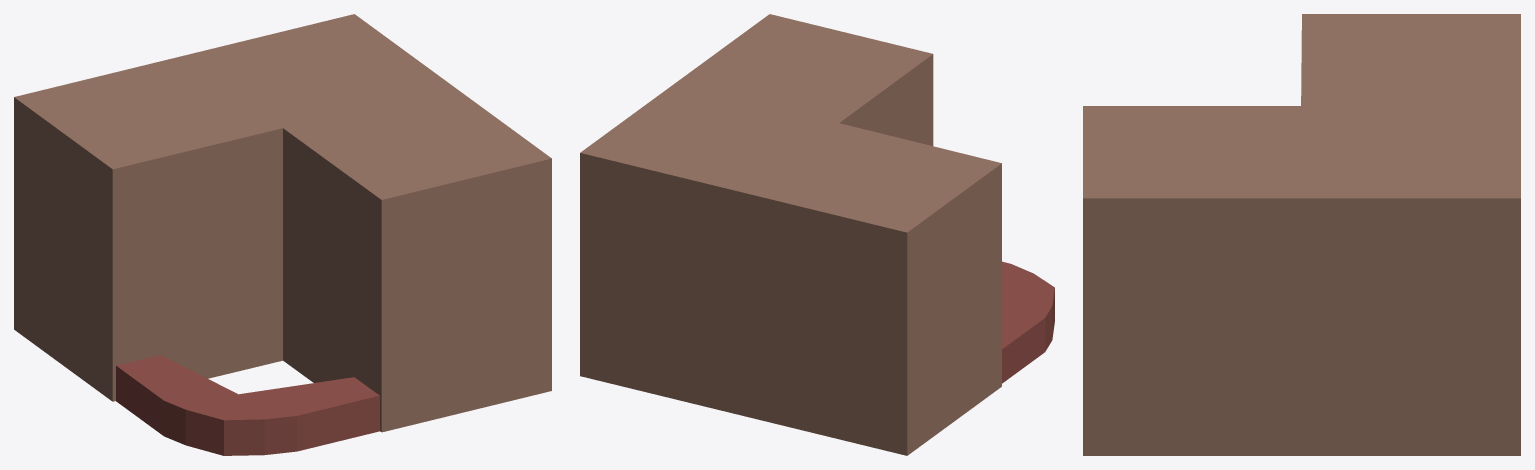
3 renders of one model, left to right at view 1: azimuth 30°, elevation 25°; view 2: azimuth 150°, elevation 25°; view 3: azimuth 270°, elevation 25°, orthographic. The views are drawn at different scales.
Parts seen in each view (by area): view 1: Cube.028, Cube; view 2: Cube.028, Cube; view 3: Cube.028.
Boxes of the visible parts, left/top/right/bottom form: Cube.028: left=14, top=14, right=551, bottom=432; Cube: left=116, top=355, right=379, bottom=455; Cube.028: left=580, top=14, right=1001, bottom=455; Cube: left=1002, top=261, right=1054, bottom=383; Cube.028: left=1083, top=14, right=1520, bottom=455.
Bounding box in the file's own units: 12.41 × 8.1 × 12.46.
